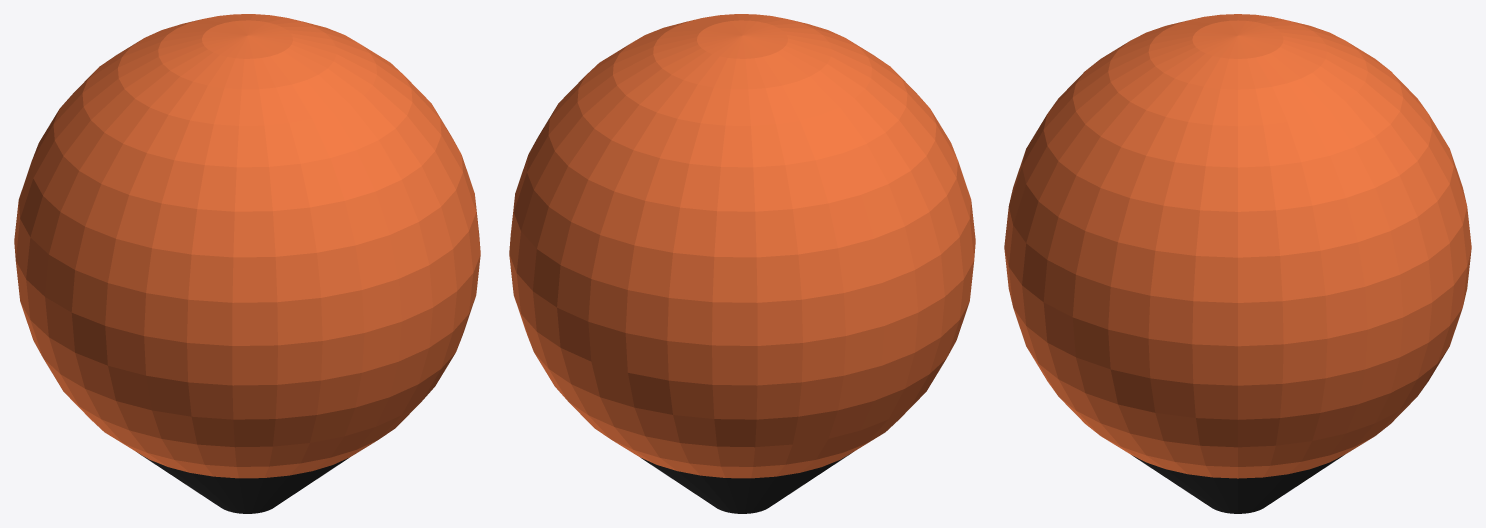
The model's file is buoy_N.dae.
3 views of the same model, side by side, from view 1: azimuth 30°, elevation 25°; view 2: azimuth 150°, elevation 25°; view 3: azimuth 270°, elevation 25° (orthographic).
Parts seen in each view (by area): view 1: Sphere, Sphere_001; view 2: Sphere, Sphere_001; view 3: Sphere, Sphere_001.
Part boxes in pixels (x1,y1,x2,y2): Sphere: (14, 14, 480, 478); Sphere_001: (137, 452, 349, 513); Sphere: (509, 14, 975, 478); Sphere_001: (640, 452, 852, 513); Sphere: (1004, 14, 1471, 478); Sphere_001: (1132, 455, 1343, 513).
Size of the model in its own units: 2 by 2 by 2.22.
